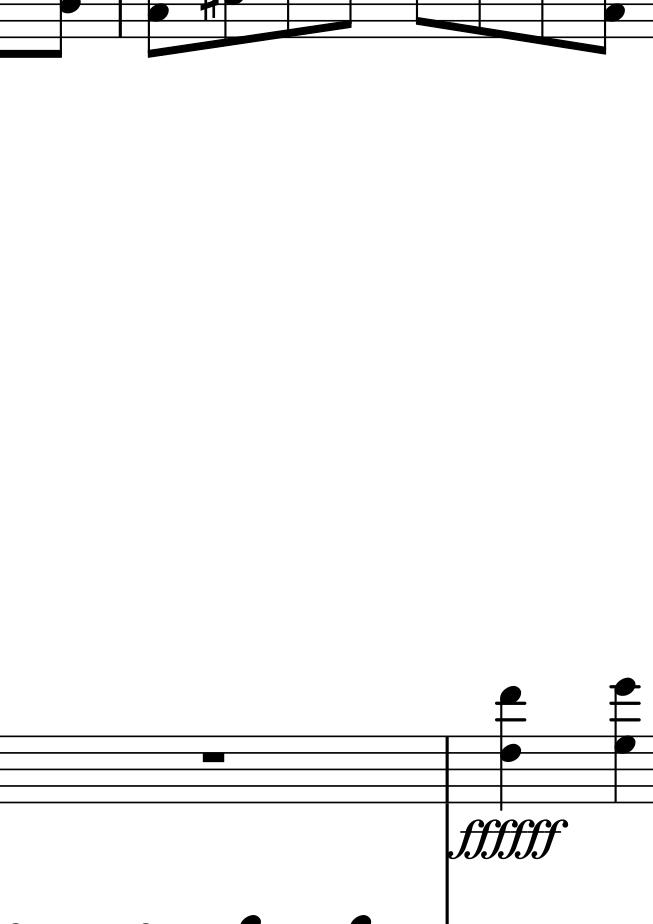4_6_13: (494, 685, 524, 812)
4_7_14: (608, 677, 641, 804)
Rests1: (196, 748, 227, 765)
Single_barline: (438, 736, 455, 803)
fff: (450, 818, 516, 860), (501, 818, 568, 858)
